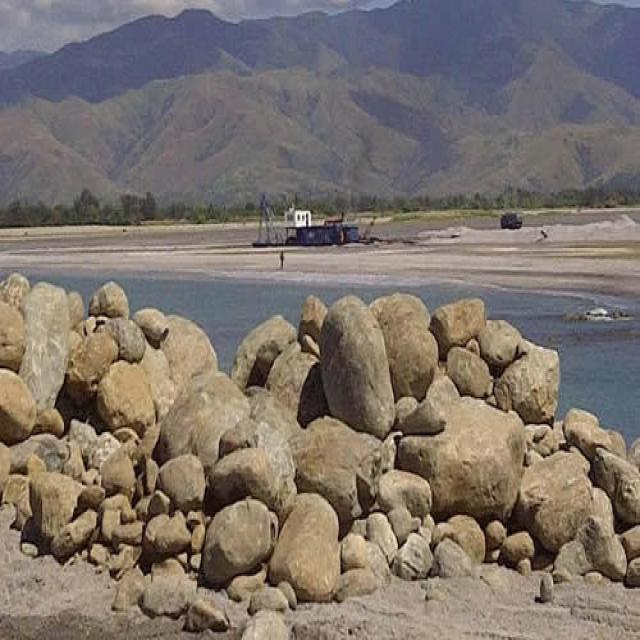sand: (0, 510, 195, 638), (284, 568, 639, 638)
stone: (0, 422, 639, 638), (424, 298, 558, 422), (397, 398, 525, 518), (67, 282, 172, 413), (320, 296, 393, 437), (293, 418, 378, 526), (513, 451, 596, 554), (160, 373, 250, 467), (209, 421, 296, 517), (270, 494, 339, 598), (369, 293, 436, 398), (202, 499, 275, 586), (19, 282, 69, 408), (495, 339, 558, 422), (205, 448, 280, 512), (232, 315, 296, 387), (161, 317, 218, 397), (97, 360, 155, 434), (265, 341, 317, 419), (563, 408, 625, 459), (0, 370, 37, 443), (252, 389, 300, 438), (0, 299, 24, 371)
